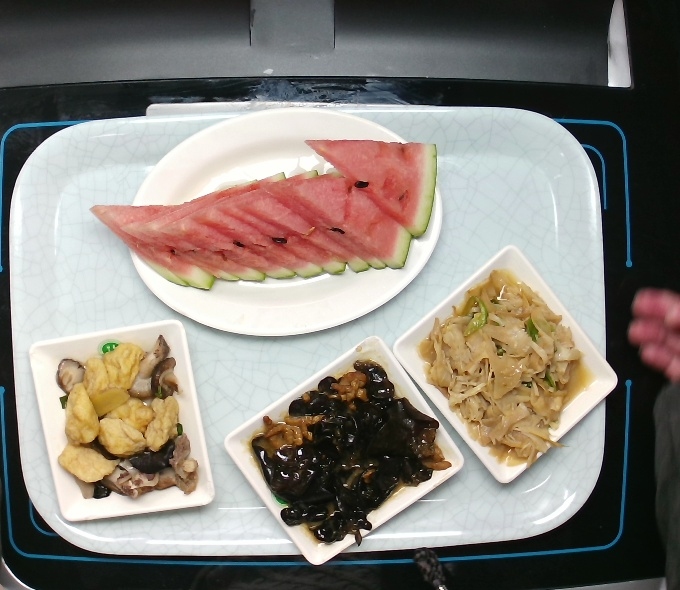wcq-LuSun: (420, 265, 590, 479)
wcq-MuErChaoRou: (258, 361, 451, 539)
wcq-XiGua: (82, 135, 459, 297)
wcq-YouPaoPaiGu: (56, 327, 202, 507)
